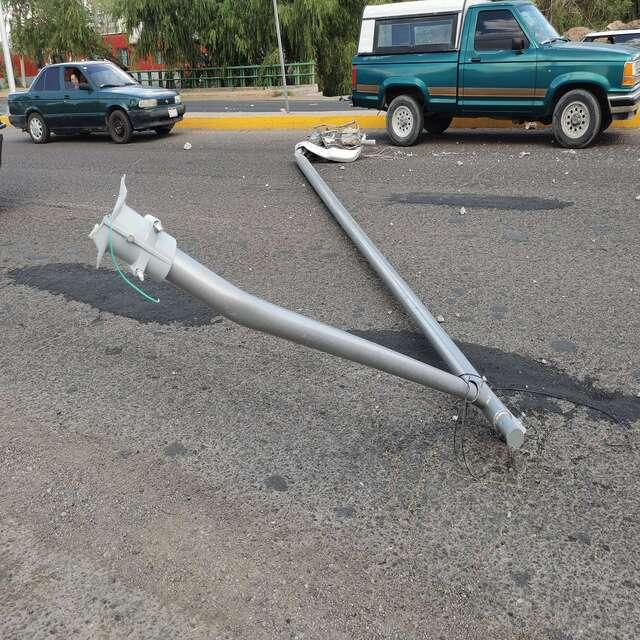Inclined Pole: (87, 121, 533, 448)
